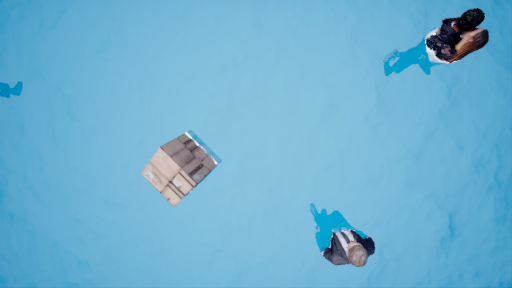person: (382, 6, 492, 86), (303, 203, 379, 265)
